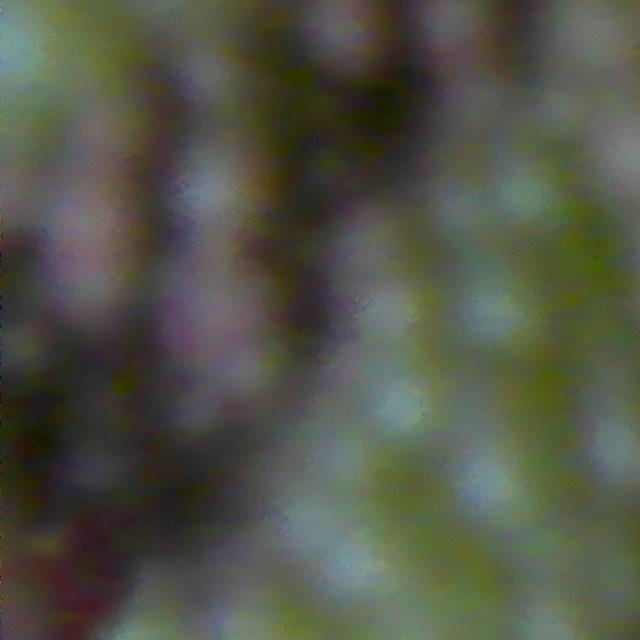SeaGrape: (451, 259, 554, 365), (486, 153, 578, 243), (365, 366, 454, 454), (308, 0, 399, 76), (411, 0, 502, 59)
